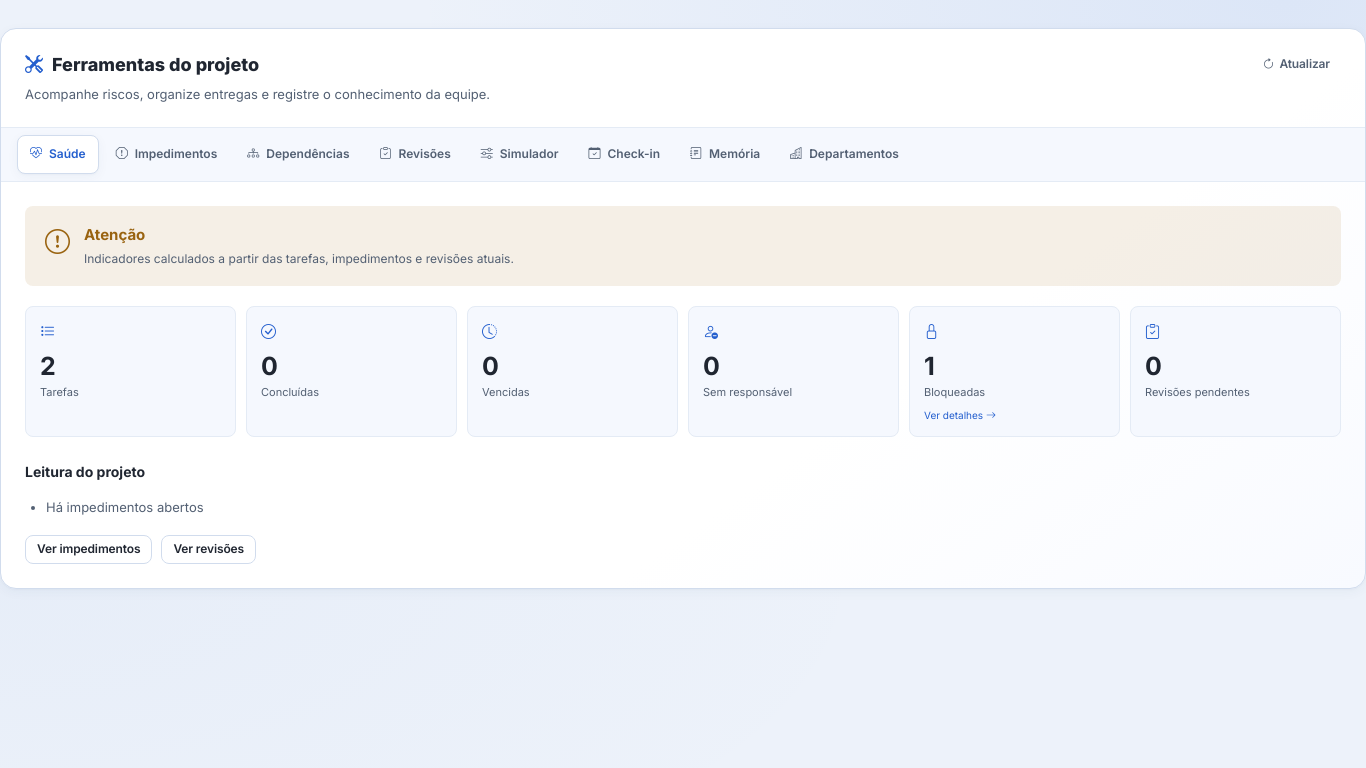
it: detalhes de bloqueio levam ao contexto existente de impedimentos
This screenshot has width=1366, height=768.
Click the button "Ver detalhes" at {"x": 960, "y": 415}, box [924,408,996,422]
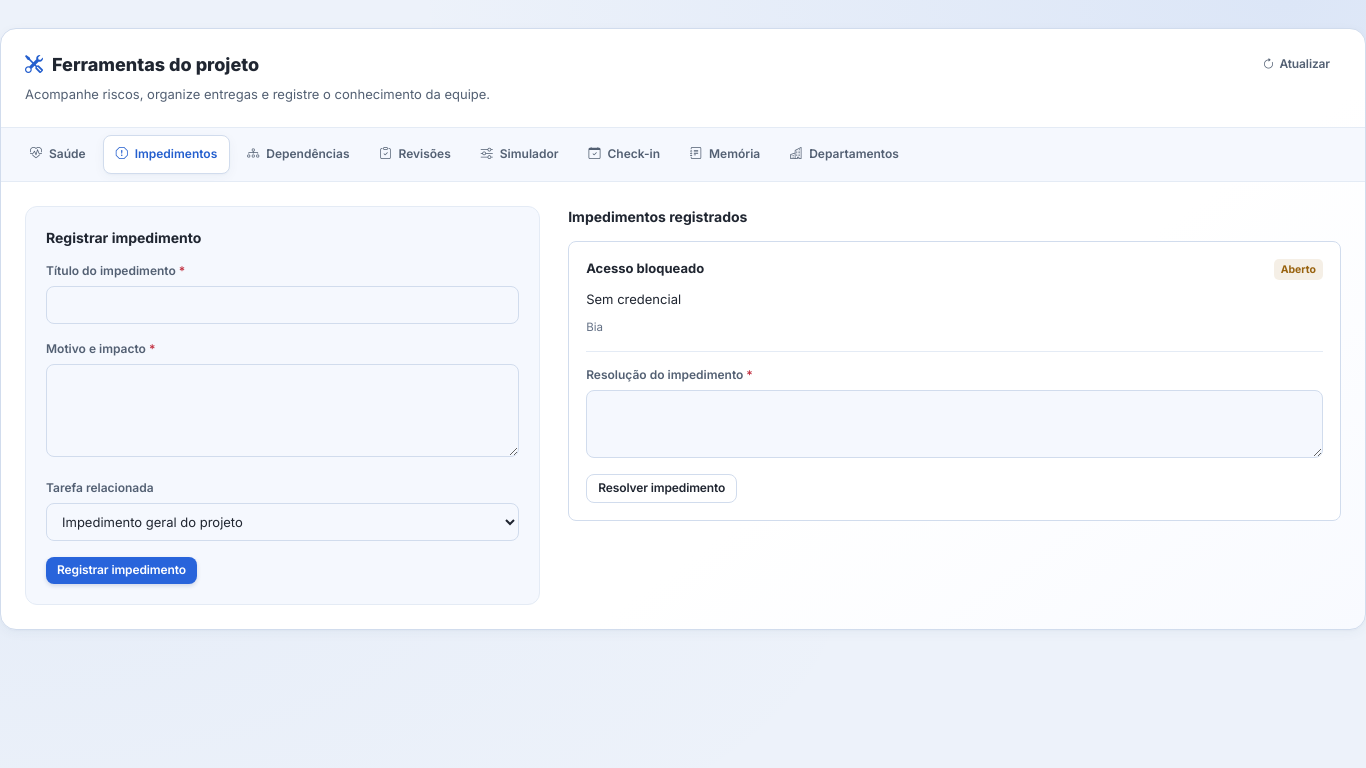
Expected: the tab "Impedimentos" is shown, [103,135,230,174]
Expected: the text "Acesso bloqueado" is shown, [586,259,704,278]
